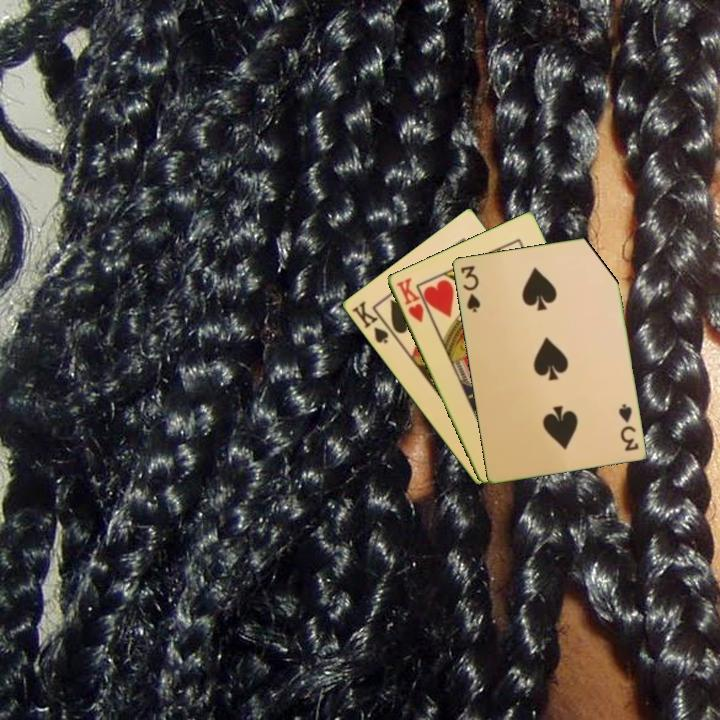3s: (614, 400, 641, 454), (457, 262, 483, 315)
Kh: (392, 274, 426, 325)
Ks: (348, 297, 397, 347)
